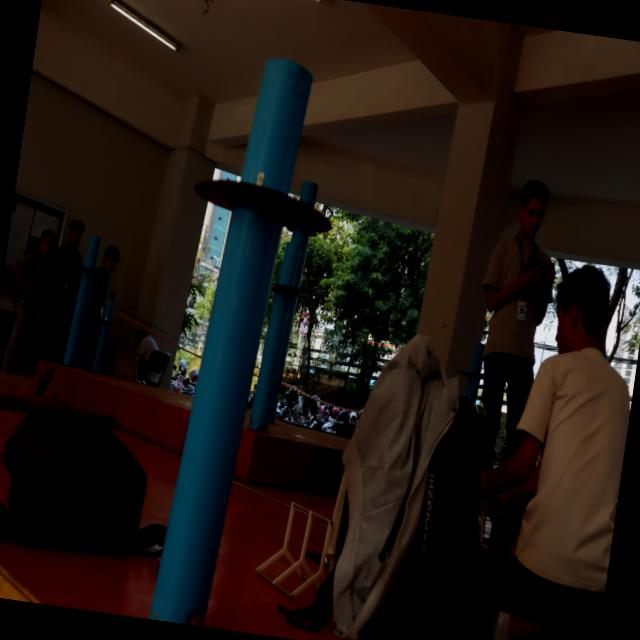pole: (200, 47, 358, 269), (262, 235, 312, 328), (66, 227, 116, 304)
